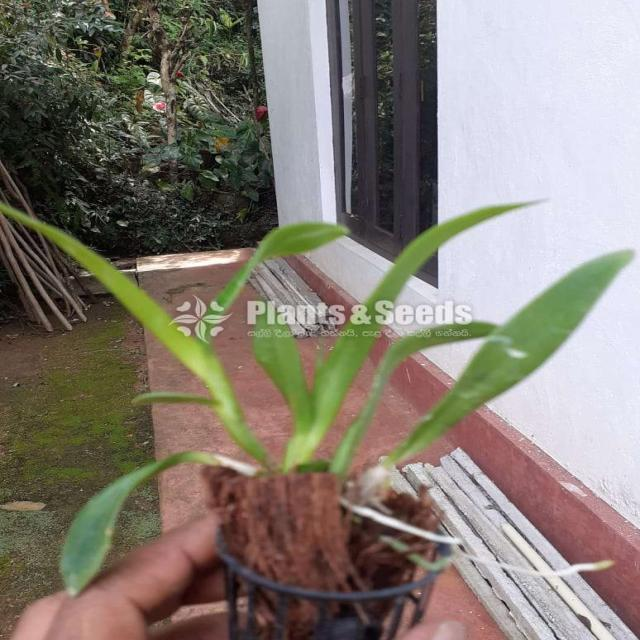leaf: (281, 201, 541, 469), (0, 203, 250, 449), (389, 251, 633, 461), (329, 322, 497, 474), (61, 453, 216, 595), (195, 222, 347, 342), (252, 301, 314, 430), (134, 392, 214, 407)
plant: (3, 166, 640, 639)
root: (201, 480, 463, 640), (342, 500, 614, 579)
